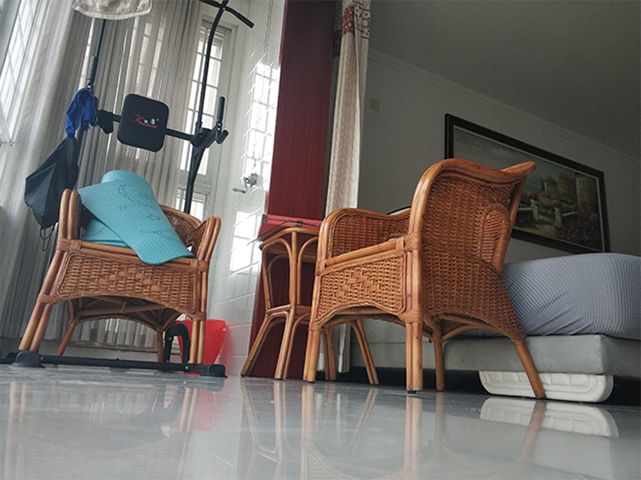stool: (301, 156, 549, 401), (13, 186, 225, 365)
table: (238, 219, 382, 387)
